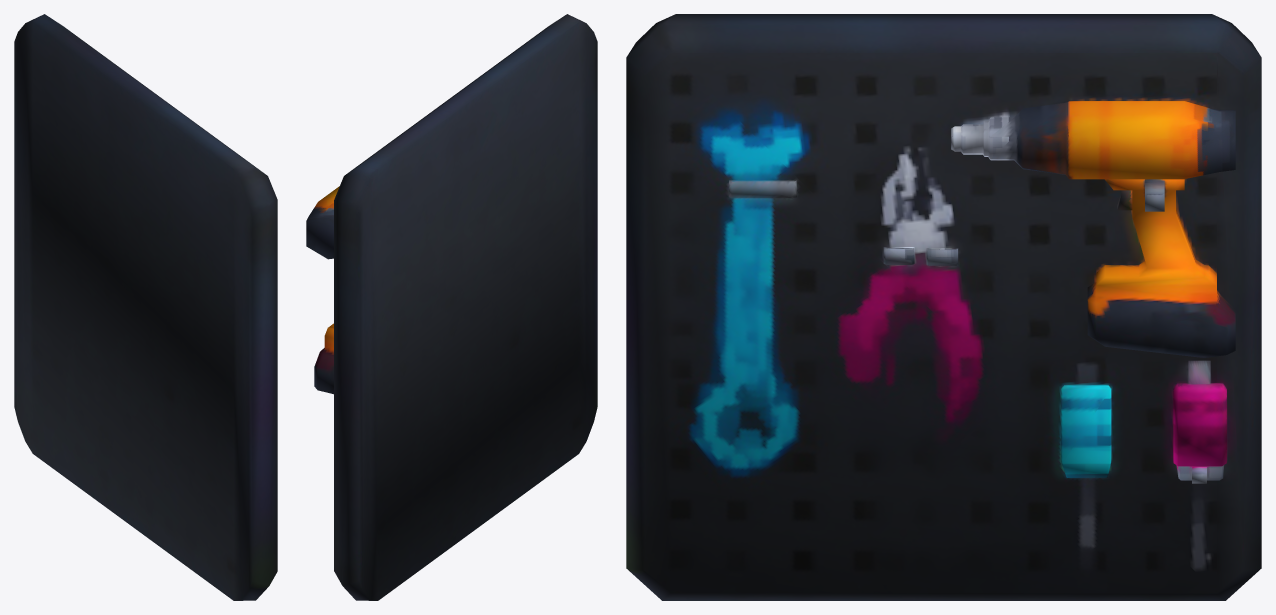
File: tripo_convert_b0bae194-0abd-4e6e-9ec9-3c102cd49e3e.glb
The picture shows the model from 3 angles, left to right: view 1: azimuth 30°, elevation 25°; view 2: azimuth 150°, elevation 25°; view 3: azimuth 270°, elevation 25°; orthographic projection. The views are drawn at different scales.
Parts seen in each view (by area): view 1: tripo_node_b0bae194-0abd-4e6e-9ec9-3c102cd49e3e; view 2: tripo_node_b0bae194-0abd-4e6e-9ec9-3c102cd49e3e; view 3: tripo_node_b0bae194-0abd-4e6e-9ec9-3c102cd49e3e.
Part boxes in pixels (left/top/right/bottom): tripo_node_b0bae194-0abd-4e6e-9ec9-3c102cd49e3e: left=14, top=14, right=277, bottom=600; tripo_node_b0bae194-0abd-4e6e-9ec9-3c102cd49e3e: left=306, top=14, right=597, bottom=600; tripo_node_b0bae194-0abd-4e6e-9ec9-3c102cd49e3e: left=626, top=14, right=1261, bottom=600.
Size of the model in its own units: 0.1699 by 0.998 by 0.998.
1 material, 1 textured.
